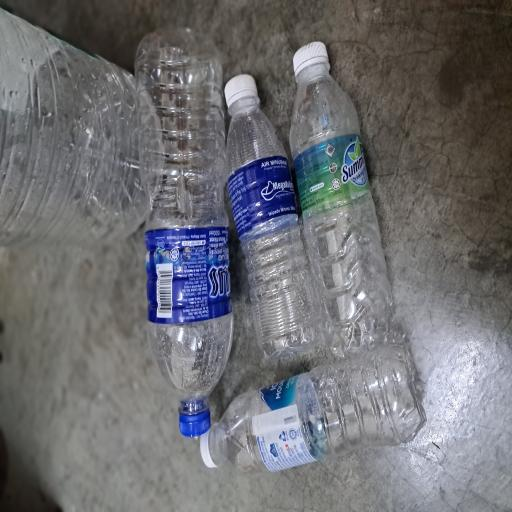plastic bottle: (199, 0, 379, 219), (78, 180, 364, 310), (115, 384, 335, 512), (114, 303, 310, 434), (31, 281, 122, 512)
plastic bottle cap: (320, 390, 354, 441), (300, 300, 329, 348), (32, 267, 68, 295), (57, 238, 77, 283)
